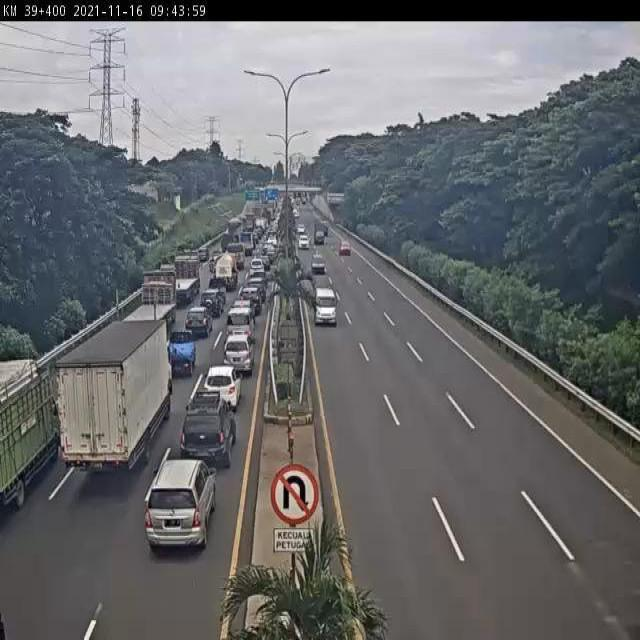car: (145, 462, 221, 554), (177, 395, 237, 468), (202, 363, 244, 415), (163, 328, 194, 375), (223, 334, 252, 378), (313, 284, 337, 328), (226, 309, 255, 343), (184, 304, 213, 337), (199, 287, 223, 320), (239, 285, 262, 315), (246, 276, 268, 299), (208, 278, 229, 302), (310, 254, 325, 278), (232, 299, 254, 315), (249, 260, 267, 279)
truck: (58, 319, 184, 472), (0, 355, 63, 512), (121, 265, 176, 327), (163, 252, 201, 303), (208, 249, 239, 288)
